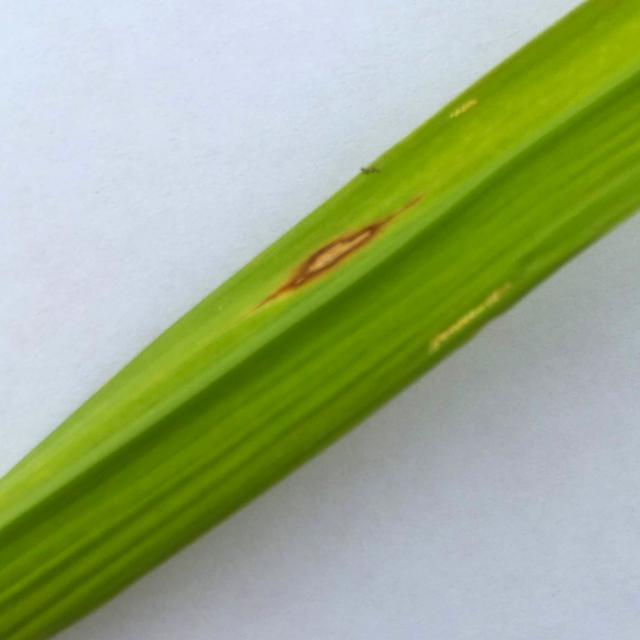Blast: (290, 231, 378, 273)
